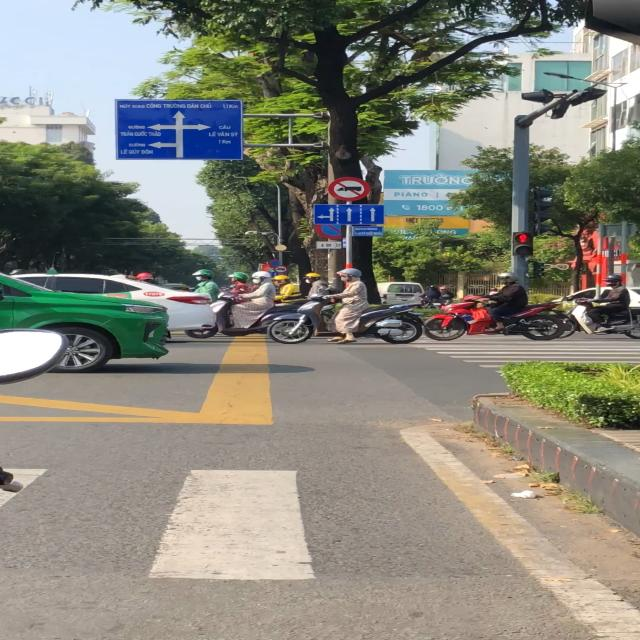Bien bao cam xe so-mi ro-mooc: (327, 175, 375, 203)
